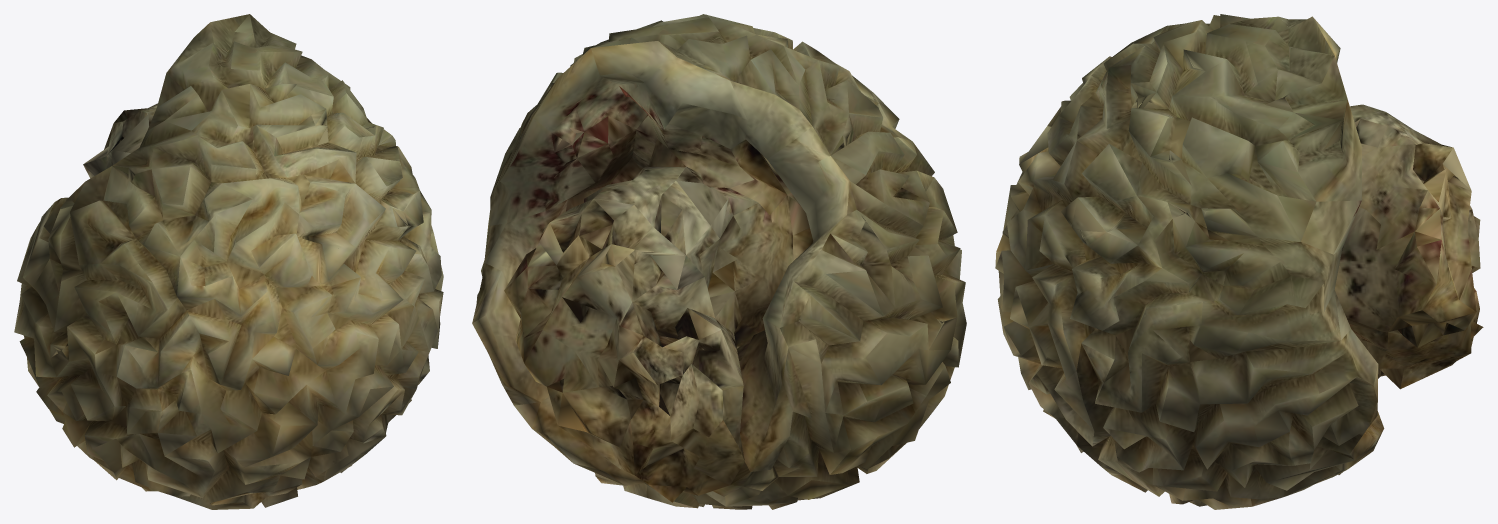
The model's file is scan_coral_brain_b.glb.
3 views of the same model, side by side, from view 1: azimuth 30°, elevation 25°; view 2: azimuth 150°, elevation 25°; view 3: azimuth 270°, elevation 25° (orthographic). The views are drawn at different scales.
Parts seen in each view (by area): view 1: scan_coral_brain_b; view 2: scan_coral_brain_b; view 3: scan_coral_brain_b.
Boxes of the visible parts, <box> form: scan_coral_brain_b: <box>14,14,443,509</box>; scan_coral_brain_b: <box>472,14,966,509</box>; scan_coral_brain_b: <box>995,14,1483,509</box>.
Bounding box in the file's own units: 0.8329 × 0.901 × 0.8346.
Materials: 1 (1 with a texture image).
